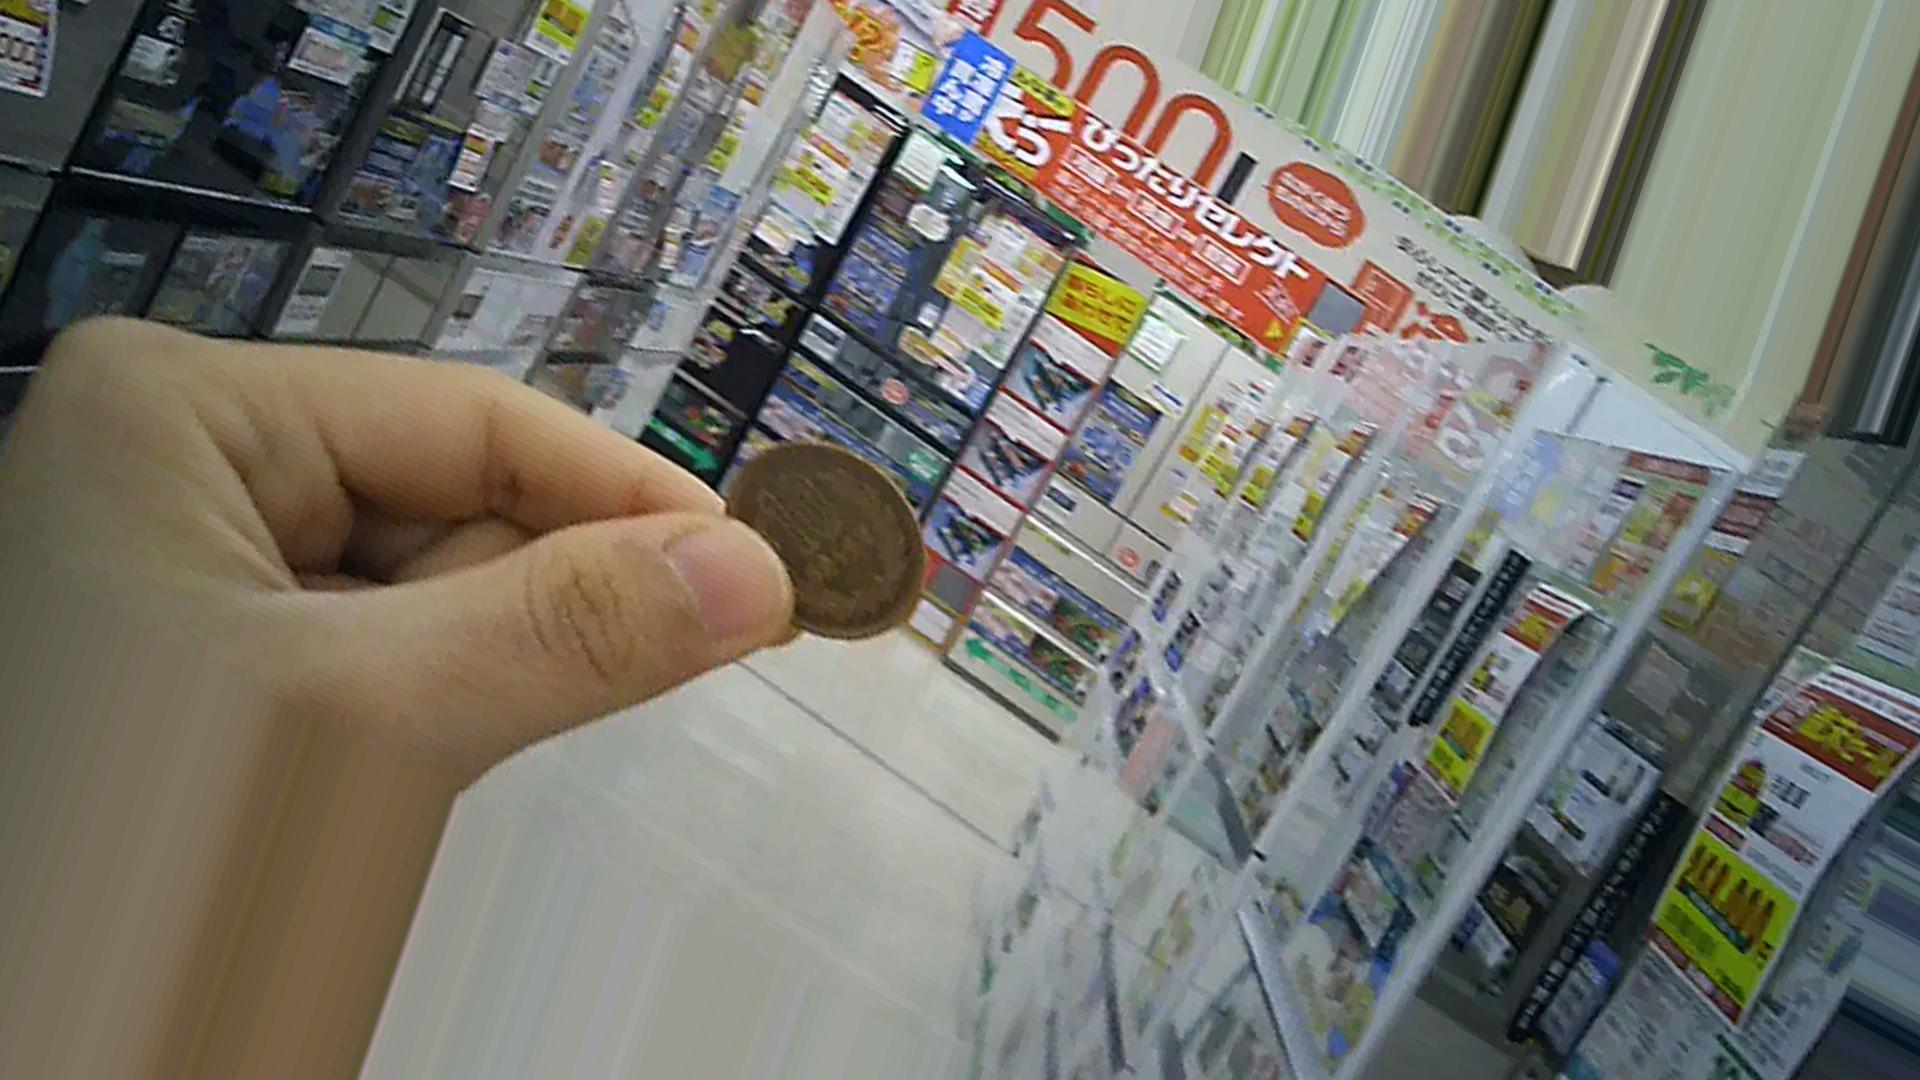10 Yen: (707, 423, 953, 659)
